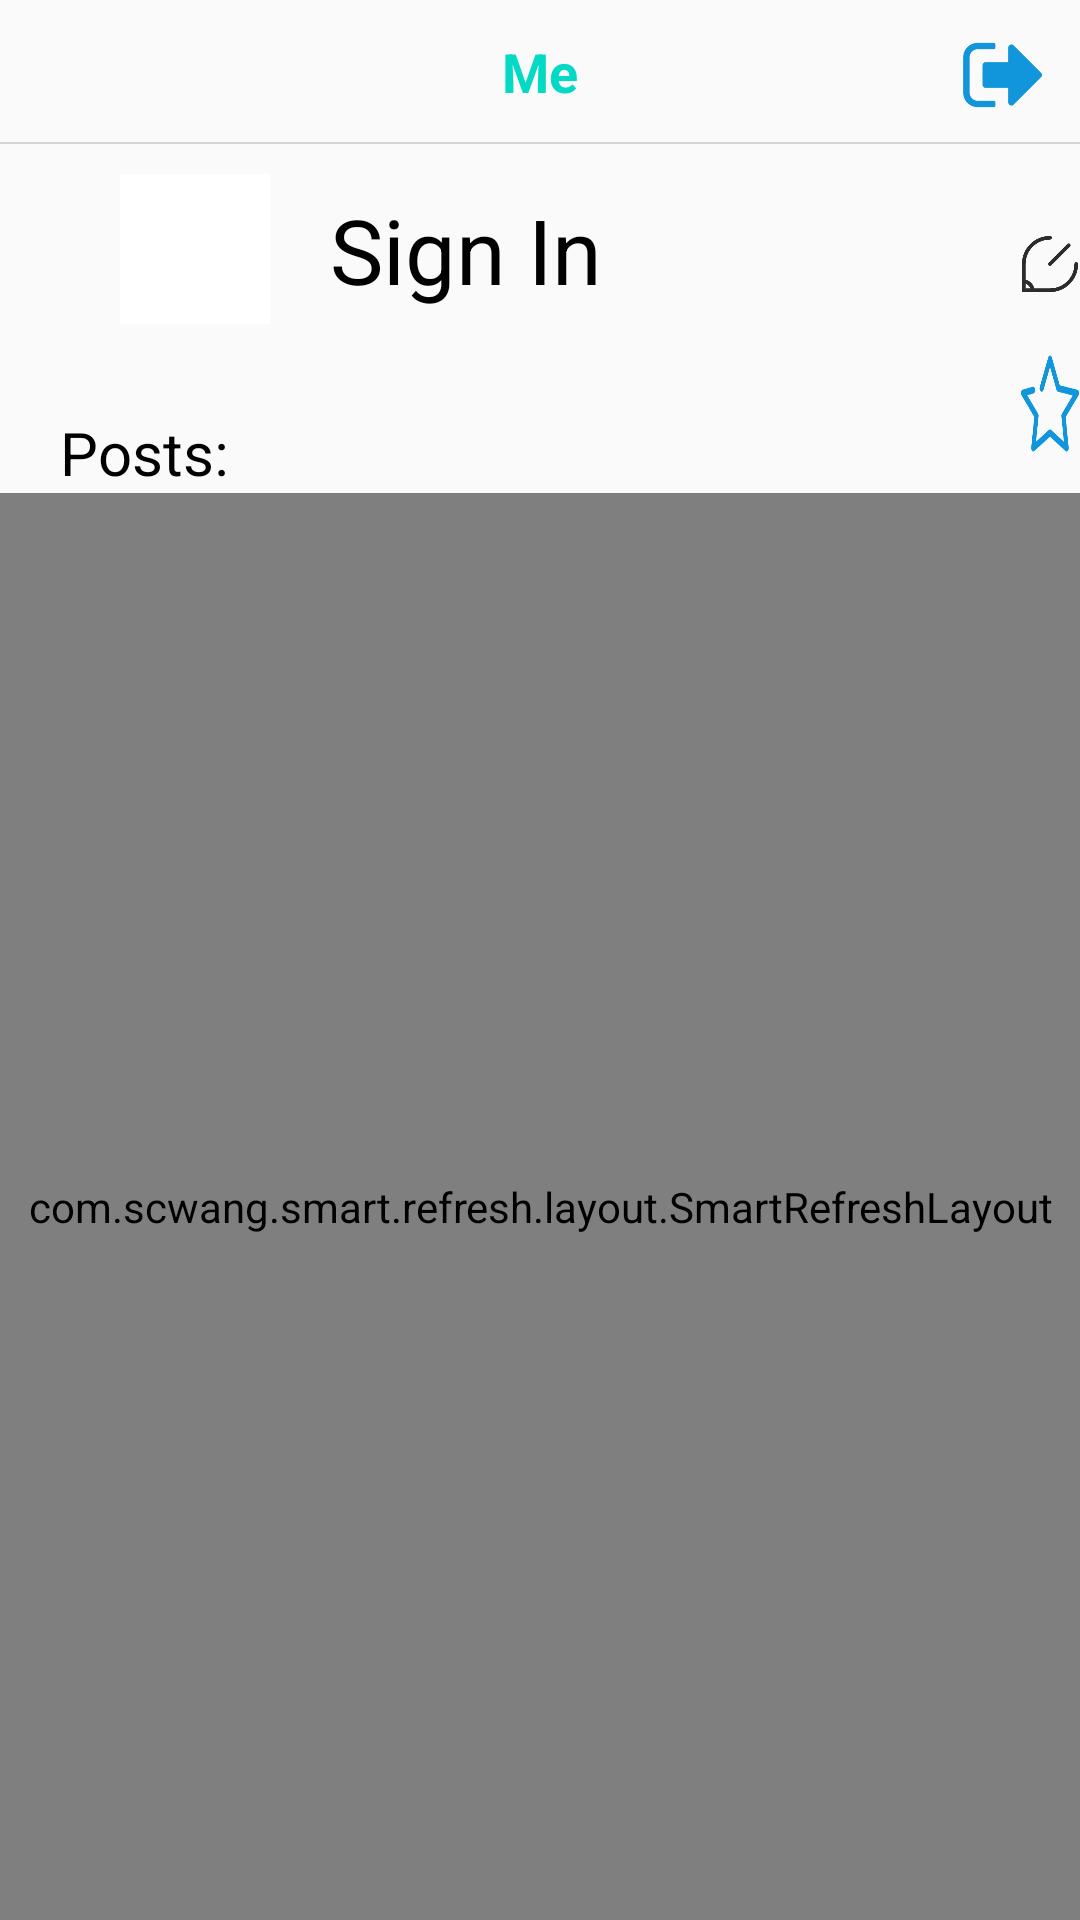

Icons on this 1080px×1920px Android screen, each with the point to tap as point (x, y):
edit: point (1050, 264)
signout: point (1002, 75)
wodeshoucang: point (1050, 403)
